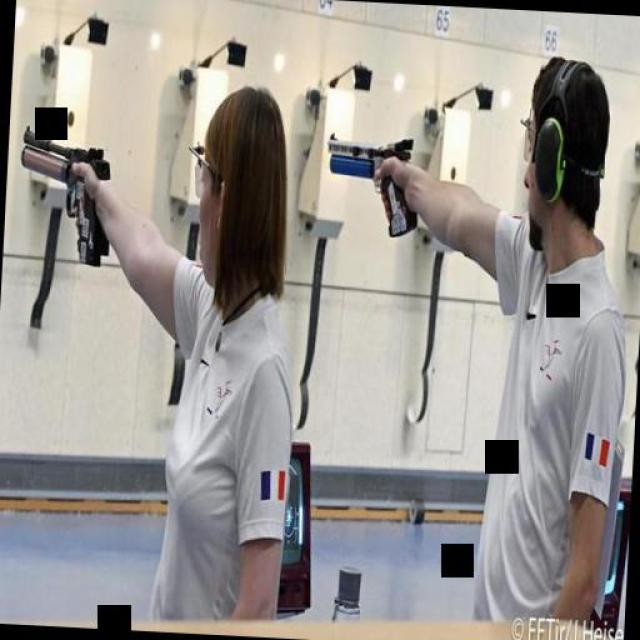gun: (12, 116, 118, 272), (317, 119, 423, 241)
